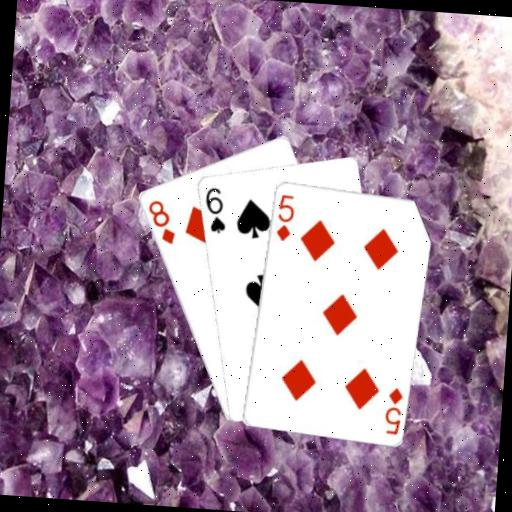5D: (380, 384, 405, 437), (272, 191, 297, 243)
6S: (199, 184, 229, 236)
8D: (142, 196, 179, 246)
